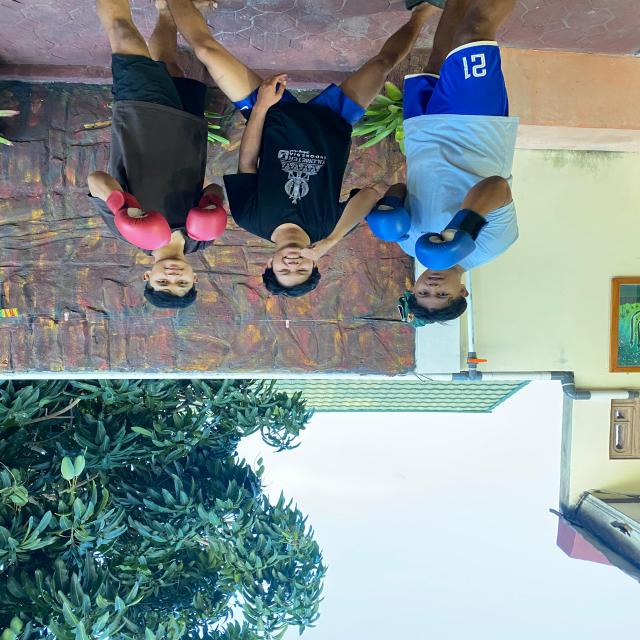nohelmet: (406, 254, 467, 328), (138, 248, 202, 313), (256, 246, 325, 305)
